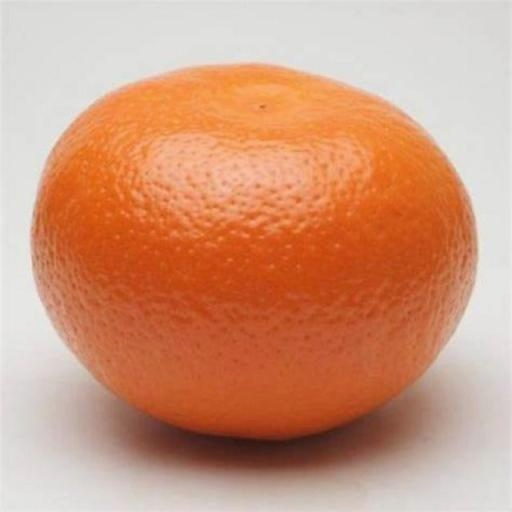fruit: (32, 65, 475, 439)
